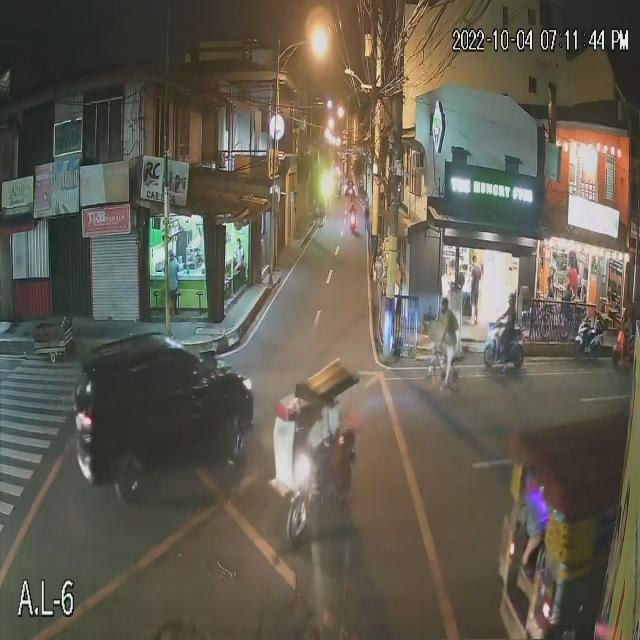helmet: (503, 291, 520, 313), (506, 288, 517, 308)
motorcycle: (477, 329, 535, 376), (348, 213, 360, 236)
rider: (501, 307, 521, 342)
